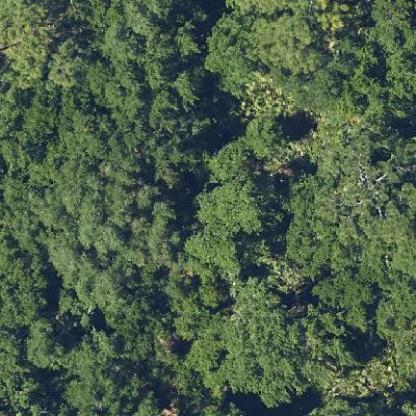tree-top: (244, 12, 334, 74), (188, 183, 279, 234), (25, 312, 67, 372), (207, 135, 255, 187), (242, 113, 288, 159)
